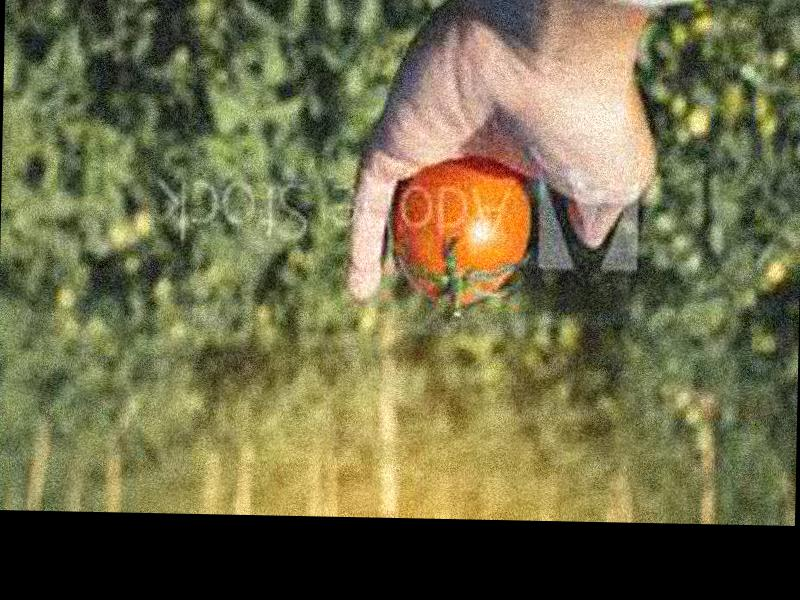Tomato: (388, 163, 528, 303)
